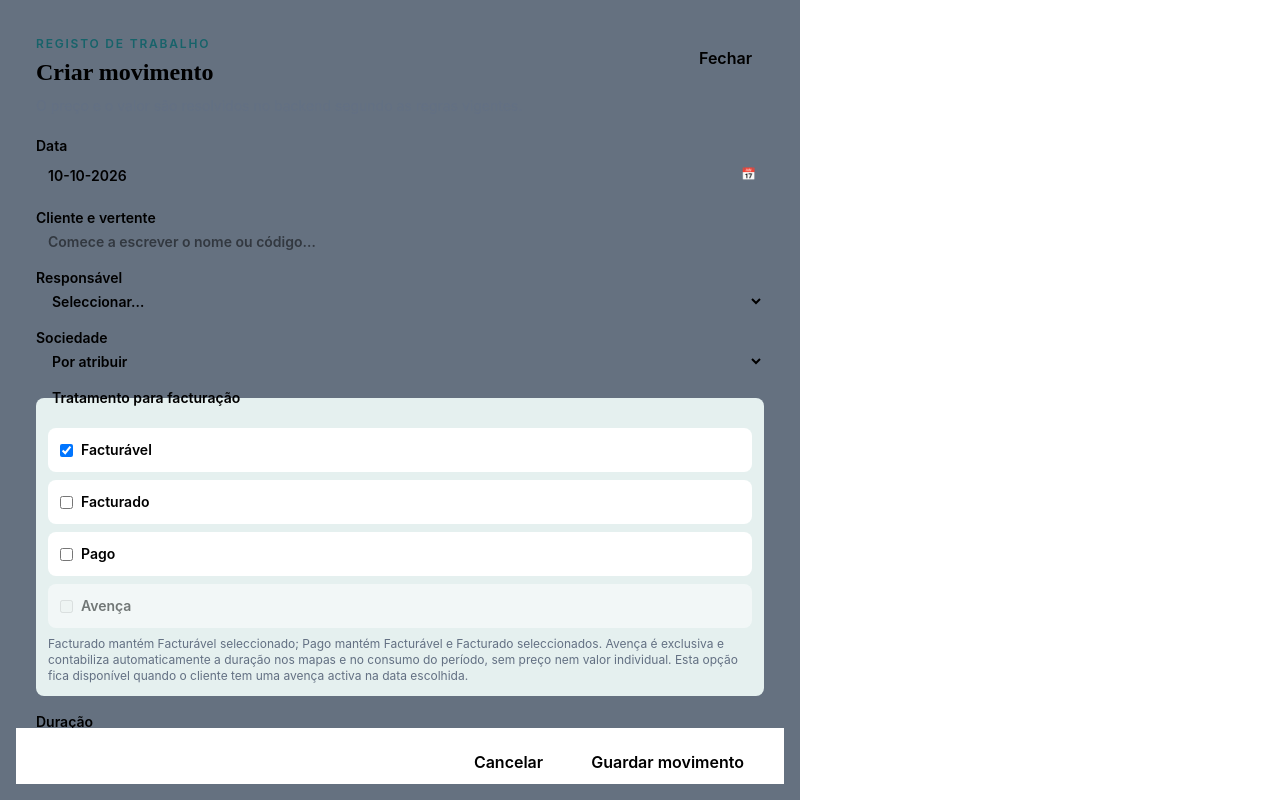
Scenario: ignora resposta do cliente anterior e mantém uma predefinição zero
Type "Alfa" into the dropdown labelled "Cliente e vertente". click: coordinates (400, 242)
box: top-left (36, 232), bottom-right (764, 252)
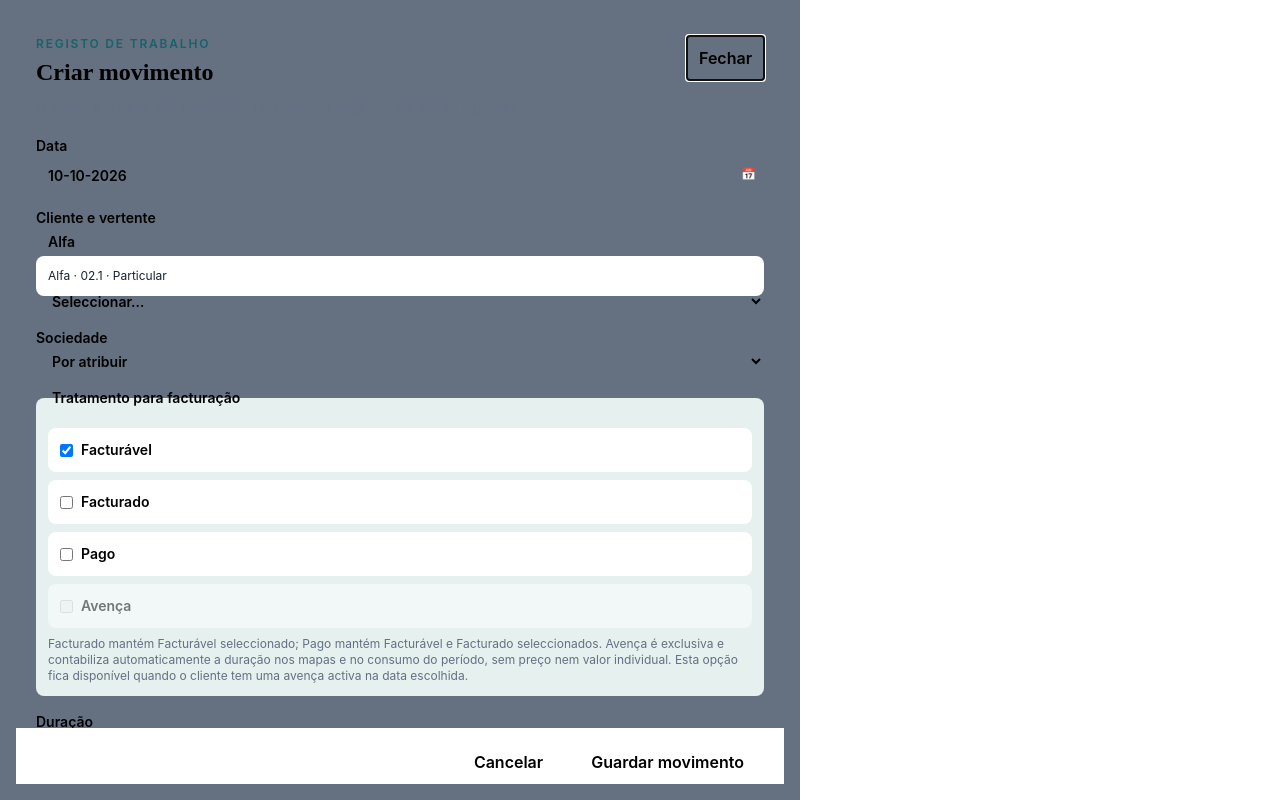
Click the option "Alfa · 02.1 · Particular". click: coordinates (107, 276)
box: top-left (40, 260), bottom-right (760, 292)
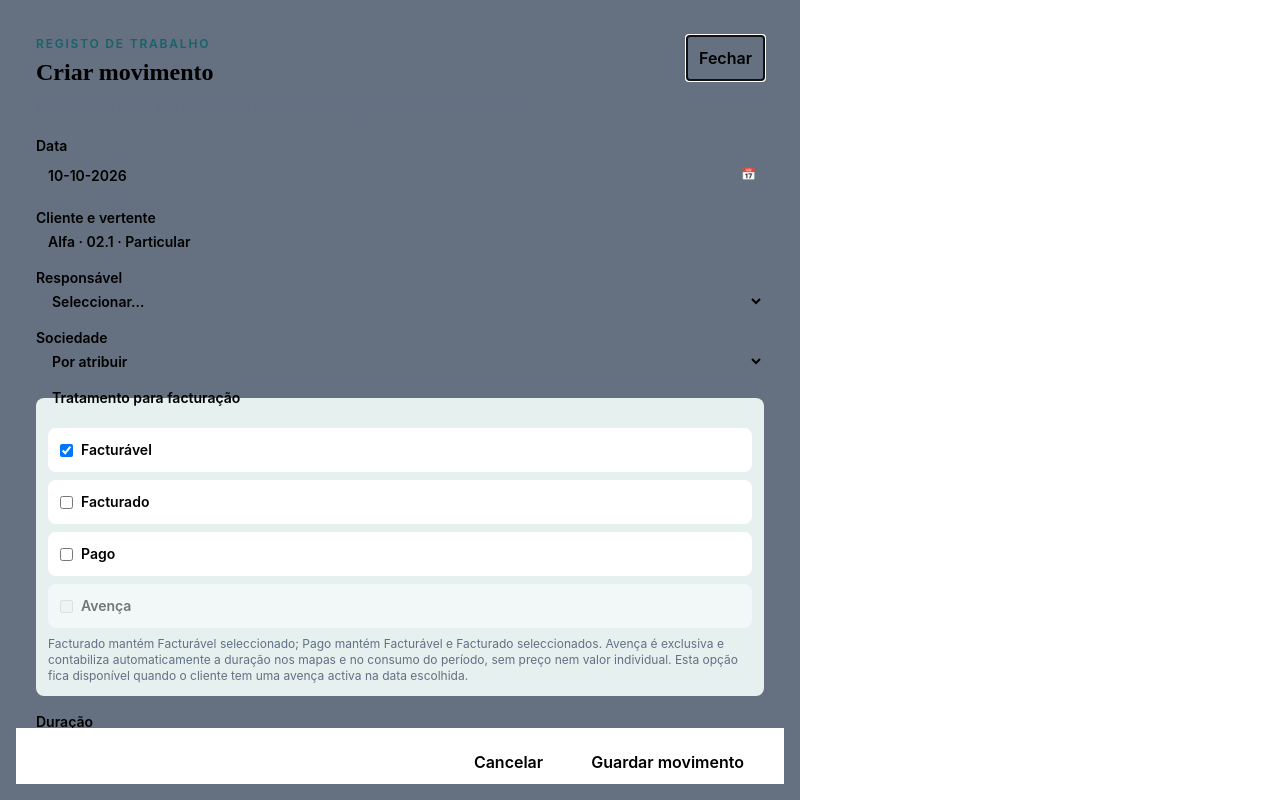
Replace the text in the dropdown labelled "Cliente e vertente" with "Beta". click: coordinates (400, 242)
box: top-left (36, 232), bottom-right (764, 252)
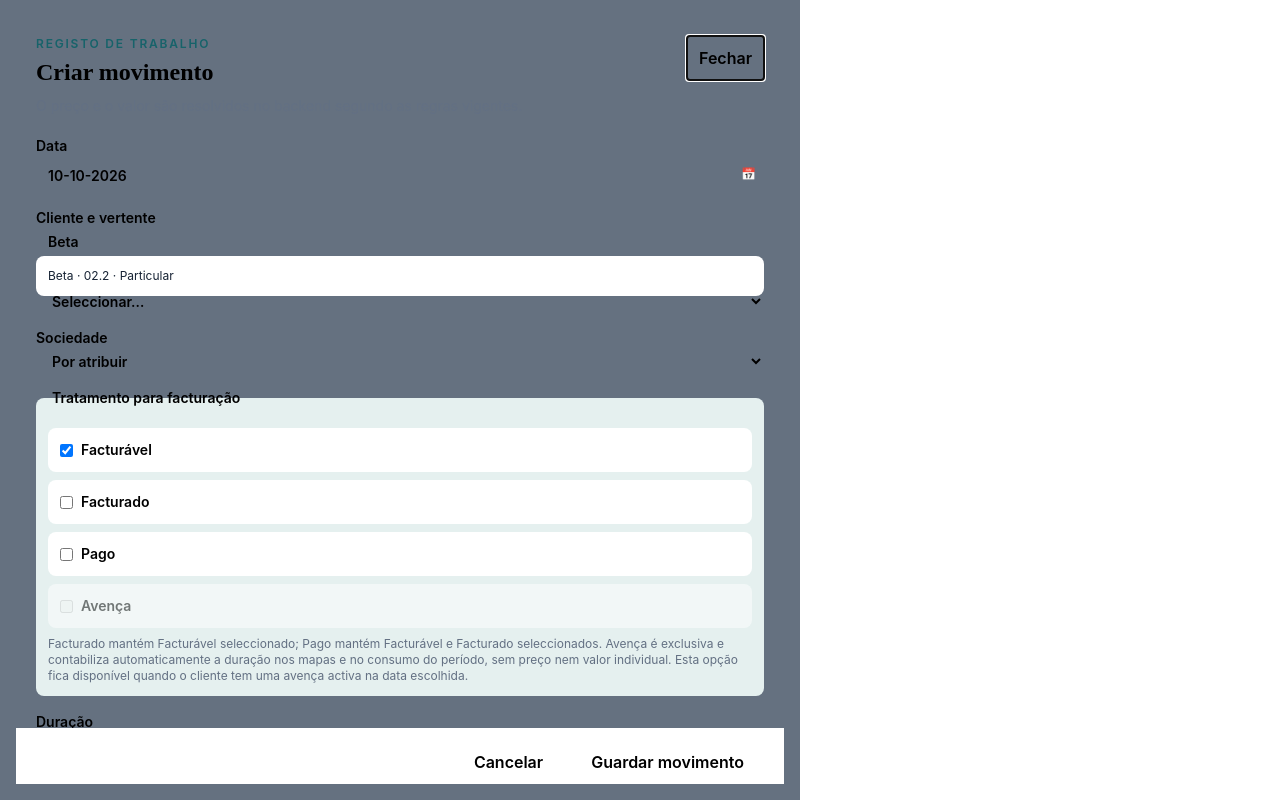
Click the option "Beta · 02.2 · Particular". click: coordinates (111, 276)
box: top-left (40, 260), bottom-right (760, 292)
(page scrolled)
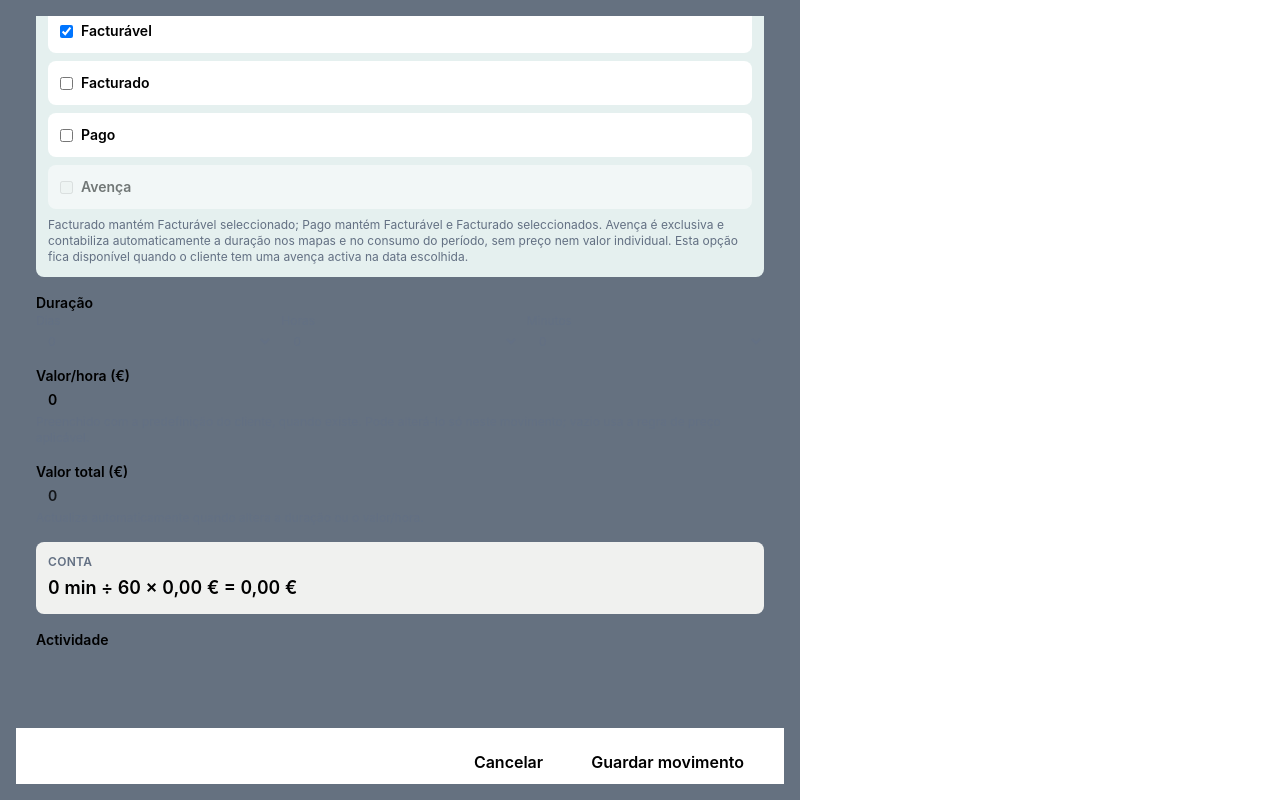
Check: the number field labelled "Valor/hora" holds "0", box top-left (36, 390), bottom-right (764, 410)
